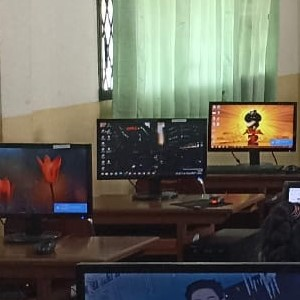monitor: (0, 143, 94, 220), (95, 118, 207, 182), (208, 102, 297, 154), (282, 181, 300, 206)
